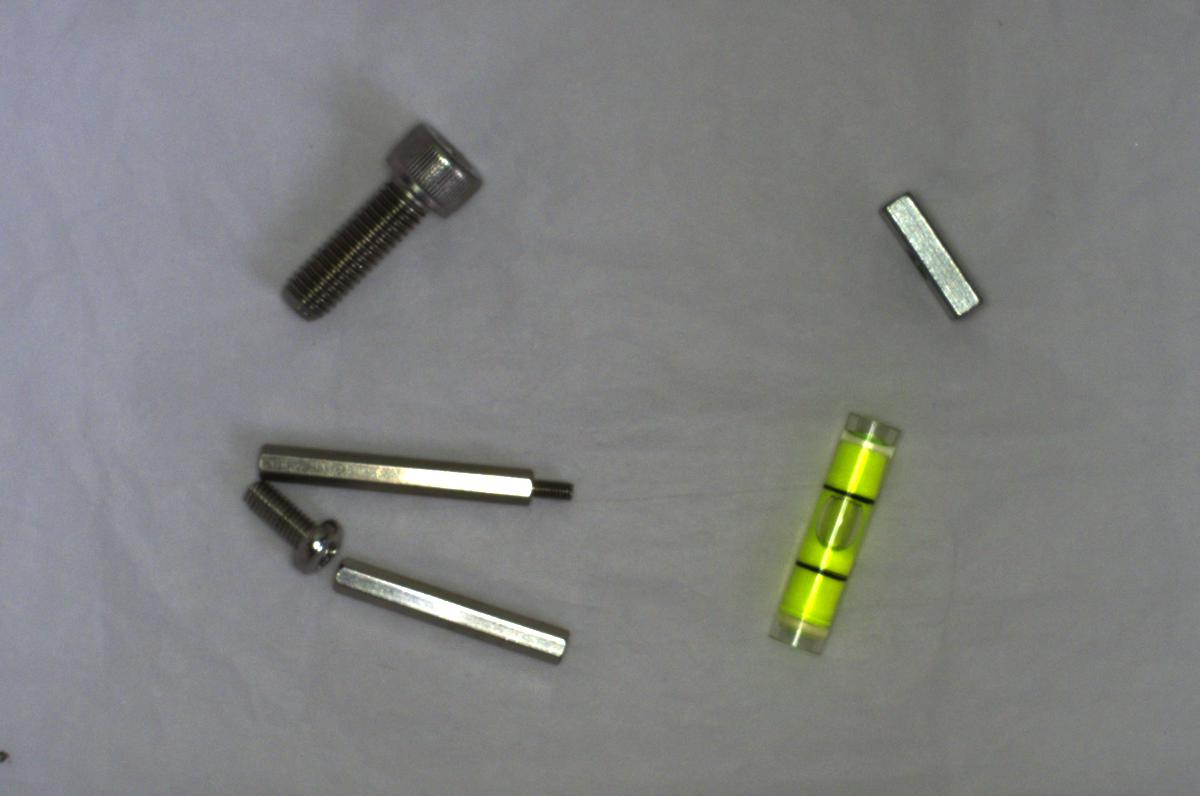Double hexagonal column: (333, 558, 575, 675)
Hexagon screw: (262, 108, 484, 325)
Hexagonal steel column: (247, 432, 587, 509)
Horizontal bubble: (759, 402, 899, 662)
Rectangular nut: (877, 187, 984, 327)
Round head screw: (237, 479, 347, 575)
